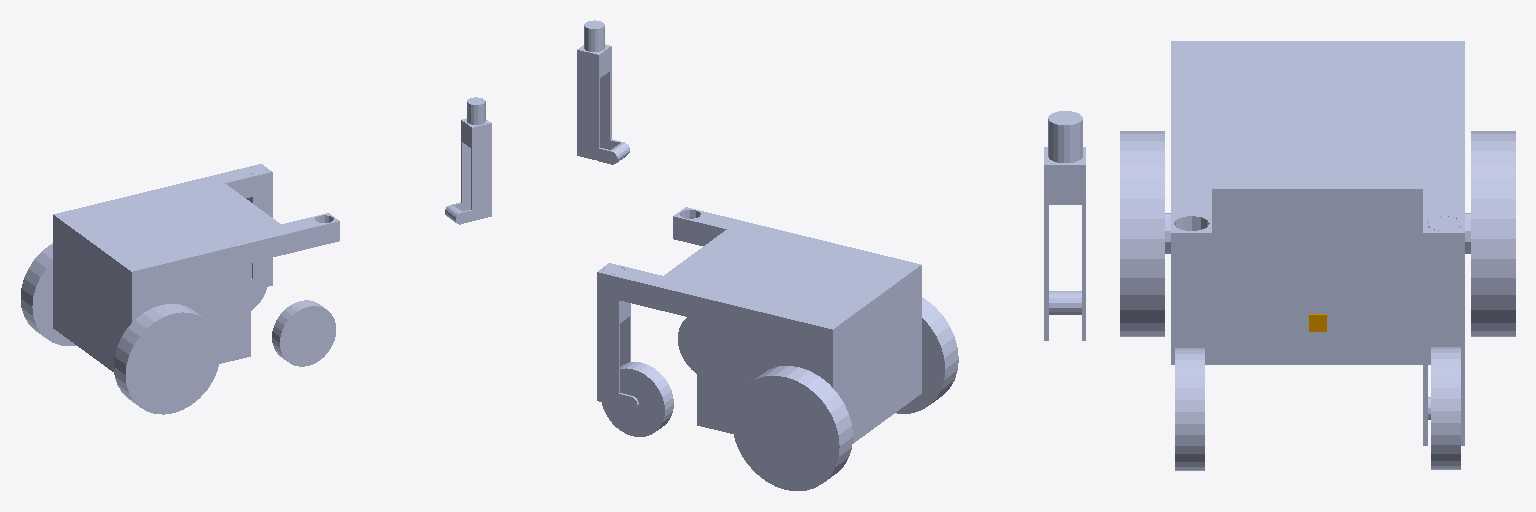
URDF robot description (wheele):
<?xml version="1.0" encoding="utf-8"?>
<!-- This URDF was automatically created by SolidWorks to URDF Exporter! Originally created by [author] ([email redacted]) 
     Commit Version: 1.6.0-4-g7f85cfe  Build Version: 1.6.7995.38578
     For more information, please see http://wiki.ros.org/sw_urdf_exporter -->
<robot
  name="wheele">
  <link
    name="base_link">
    <inertial>
      <origin
        xyz="-0.0527414453514239 -1.08270102171606E-06 0.207668676561577"
        rpy="0 0 0" />
      <mass
        value="91.1648574707324" />
      <inertia
        ixx="3.16732019149984"
        ixy="4.74759163822853E-05"
        ixz="-0.32026788285614"
        iyy="3.23556377175086"
        iyz="1.49370499763038E-05"
        izz="3.88981086562858" />
    </inertial>
    <visual>
      <origin
        xyz="0 0 0"
        rpy="0 0 0" />
      <geometry>
        <mesh
          filename="package://wheele_description/meshes/base_link.STL" />
      </geometry>
      <material
        name="">
        <color
          rgba="0.792156862745098 0.819607843137255 0.933333333333333 1" />
      </material>
    </visual>
    <collision>
      <origin
        xyz="0 0 0"
        rpy="0 0 0" />
      <geometry>
        <mesh
          filename="package://wheele_description/meshes/base_link.STL" />
      </geometry>
    </collision>
  </link>
  <link
    name="wheel_back_left">
    <inertial>
      <origin
        xyz="0.000123919025762947 -0.0375 -0.00194200173946403"
        rpy="1.570796 0 0" />
      <mass
        value="6.60646736275211" />
      <inertia
        ixx="0.0537442322482938"
        ixy="2.16892957827706E-19"
        ixz="-9.1019815591947E-05"
        iyy="0.102710694072585"
        iyz="8.57940734504454E-20"
        izz="0.0551600249768718" />
    </inertial>
    <visual>
      <origin
        xyz="0.000123919025762947 -0.0375 -0.00194200173946403"
        rpy="1.570796 0 0" />
      <geometry>
        <cylinder length="0.075" radius="0.1725" />
      </geometry>
      <material
        name="">
        <color
          rgba="0.792156862745098 0.819607843137255 0.933333333333333 1" />
      </material>
    </visual>
    <collision>
      <origin
        xyz="0.000123919025762947 -0.0375 -0.00194200173946403"
        rpy="1.570796 0 0" />
      <geometry>
        <cylinder length="0.075" radius="0.1725" />
      </geometry>
    </collision>
  </link>
  <joint
    name="joint_wheel_back_left"
    type="continuous">
    <origin
      xyz="-0.189 0.33 0.0885"
      rpy="0 0 0" />
    <parent
      link="base_link" />
    <child
      link="wheel_back_left" />
    <axis
      xyz="0 1 0" />
    <limit
      effort="30"
      velocity="30" />
  </joint>
  <link
    name="wheel_back_right">
    <inertial>
      <origin
        xyz="-8.2629885896357E-06 0.0375 -0.00194593381286387"
        rpy="1.570796 0 0" />
      <mass
        value="6.60646736275211" />
      <inertia
        ixx="0.0537384278699751"
        ixy="-2.83252785110274E-19"
        ixz="5.75494615143155E-06"
        iyy="0.102710694072585"
        iyz="-5.47735900067466E-22"
        izz="0.0551658293551905" />
    </inertial>
    <visual>
      <origin
        xyz="-8.2629885896357E-06 0.0375 -0.00194593381286387"
        rpy="1.570796 0 0" />
      <geometry>
        <cylinder length="0.075" radius="0.1725" />
      </geometry>
      <material
        name="">
        <color
          rgba="0.792156862745098 0.819607843137255 0.933333333333333 1" />
      </material>
    </visual>
    <collision>
      <origin
        xyz="-8.2629885896357E-06 0.0375 -0.00194593381286387"
        rpy="1.570796 0 0" />
      <geometry>
        <cylinder length="0.075" radius="0.1725" />
      </geometry>
    </collision>
  </link>
  <joint
    name="joint_wheel_back_right"
    type="continuous">
    <origin
      xyz="-0.189 -0.33 0.0885"
      rpy="0 0 0" />
    <parent
      link="base_link" />
    <child
      link="wheel_back_right" />
    <axis
      xyz="0 1 0" />
    <limit
      effort="30"
      velocity="30" />
  </joint>
  <link
    name="front_right">
    <inertial>
      <origin
        xyz="-0.00796967411895133 1.34484746663888E-05 -0.169078862100503"
        rpy="0 0 0" />
      <mass
        value="0.912192812599195" />
      <inertia
        ixx="0.0138058169636317"
        ixy="5.46192947538833E-07"
        ixz="-0.00150025951095099"
        iyy="0.0140839705934447"
        iyz="2.76870935230375E-06"
        izz="0.00126687371083358" />
    </inertial>
    <visual>
      <origin
        xyz="0 0 0"
        rpy="0 0 0" />
      <geometry>
        <mesh
          filename="package://wheele_description/meshes/front_right.STL" />
      </geometry>
      <material
        name="">
        <color
          rgba="0.792156862745098 0.819607843137255 0.933333333333333 1" />
      </material>
    </visual>
    <collision>
      <origin
        xyz="0 0 0"
        rpy="0 0 0" />
      <geometry>
        <mesh
          filename="package://wheele_description/meshes/front_right.STL" />
      </geometry>
    </collision>
  </link>
  <joint
    name="jont_front_right"
    type="continuous">
    <origin
      xyz="0.42825 -0.21075 0.394"
      rpy="0 0 0" />
    <parent
      link="base_link" />
    <child
      link="front_right" />
    <axis
      xyz="0 0 -1" />
  </joint>
  <link
    name="wheel_front_right">
    <inertial>
      <origin
        xyz="-0.000134044498266039 0.0325 -0.00152009362232607"
        rpy="1.570796 0 0" />
      <mass
        value="1.54915886155044" />
      <inertia
        ixx="0.00448990415075851"
        ixy="-2.74052534042467E-18"
        ixz="1.41226640854449E-05"
        iyy="0.00849384204724026"
        iyz="2.18087529975426E-19"
        izz="0.00464942075546111" />
    </inertial>
    <visual>
      <origin
        xyz="-0.000134044498266039 0.0325 -0.00152009362232607"
        rpy="1.570796 0 0" />
      <geometry>
        <cylinder length="0.05" radius="0.1025" />
      </geometry>
      <material
        name="">
        <color
          rgba="0.792156862745098 0.819607843137255 0.933333333333333 1" />
      </material>
    </visual>
    <collision>
      <origin
        xyz="-0.000134044498266039 0.0325 -0.00152009362232607"
        rpy="1.570796 0 0" />
      <geometry>
        <cylinder length="0.05" radius="0.1025" />
      </geometry>
    </collision>
  </link>
  <joint
    name="joint_wheel_front_right"
    type="continuous">
    <origin
      xyz="-0.075 -0.035 -0.3755"
      rpy="0 0 0" />
    <parent
      link="front_right" />
    <child
      link="wheel_front_right" />
    <axis
      xyz="0 -1 0" />
  </joint>
  <link
    name="front_left">
    <inertial>
      <origin
        xyz="-0.00796967411880023 1.34484745151486E-05 -0.169078862100503"
        rpy="0 0 0" />
      <mass
        value="0.912192812599195" />
      <inertia
        ixx="0.0138058169636317"
        ixy="5.46192947538824E-07"
        ixz="-0.00150025951095099"
        iyy="0.0140839705934447"
        iyz="2.76870935230368E-06"
        izz="0.00126687371083358" />
    </inertial>
    <visual>
      <origin
        xyz="0 0 0"
        rpy="0 0 0" />
      <geometry>
        <mesh
          filename="package://wheele_description/meshes/front_left.STL" />
      </geometry>
      <material
        name="">
        <color
          rgba="0.792156862745098 0.819607843137255 0.933333333333333 1" />
      </material>
    </visual>
    <collision>
      <origin
        xyz="0 0 0"
        rpy="0 0 0" />
      <geometry>
        <mesh
          filename="package://wheele_description/meshes/front_left.STL" />
      </geometry>
    </collision>
  </link>
  <joint
    name="joint_front_left"
    type="continuous">
    <origin
      xyz="0.42825 0.21125 0.394"
      rpy="0 0 0" />
    <parent
      link="base_link" />
    <child
      link="front_left" />
    <axis
      xyz="0 0 -1" />
  </joint>
  <link
    name="wheel_front_left">
    <inertial>
      <origin
        xyz="-0.00106531226090795 -0.0325 -0.00109259431396592"
        rpy="1.570796 0 0" />
      <mass
        value="1.54915886155044" />
      <inertia
        ixx="0.00456756149249647"
        ixy="-1.69951829350563E-18"
        ixz="8.09717382753578E-05"
        iyy="0.00849384204724026"
        iyz="-5.55422993037582E-19"
        izz="0.00457176341372314" />
    </inertial>
    <visual>
      <origin
        xyz="-0.00106531226090795 -0.0325 -0.00109259431396592"
        rpy="1.570796 0 0" />
      <geometry>
        <cylinder length="0.05" radius="0.1025" />
      </geometry>
      <material
        name="">
        <color
          rgba="0.792156862745098 0.819607843137255 0.933333333333333 1" />
      </material>
    </visual>
    <collision>
      <origin
        xyz="-0.00106531226090795 -0.0325 -0.00109259431396592"
        rpy="1.570796 0 0" />
      <geometry>
        <cylinder length="0.05" radius="0.1025" />
      </geometry>
    </collision>
  </link>
  <joint
    name="joint_wheel_front_left"
    type="continuous">
    <origin
      xyz="-0.075 0.035 -0.3755"
      rpy="0 0 0" />
    <parent
      link="front_left" />
    <child
      link="wheel_front_left" />
    <axis
      xyz="0 -1 0" />
  </joint>

  <link name="dummy">
  </link>
  <joint name="dummy_joint" type="fixed">
     <parent link="dummy"/>
     <child link="base_link"/>
  </joint>

  <joint name="camera_joint" type="fixed">
    <parent link="base_link"/>
    <child link="camera_link"/>
    <origin xyz="0.145 0 0.08" rpy="0 0 0"/>
  </joint>

  <link name="camera_link">
    <visual>
      <geometry>
        <box size="0.010 0.03 0.03"/>
      </geometry>
    </visual>
  </link>

  <gazebo reference="camera_link">
    <sensor name="camera" type="depth">
      <update_rate>20</update_rate>
      <pose> 0 0 0 0 0 0 </pose>
      <visualize>true</visualize>
      <camera>
        <horizontal_fov>1.047198</horizontal_fov>
        <image>
          <width>640</width>
          <height>480</height>
          <format>R8G8B8</format>
        </image>
        <clip>
          <near>0.05</near>
          <far>3</far>
        </clip>
      </camera>

      <plugin name="camera_plugin" filename="libgazebo_ros_openni_kinect.so">
        <baseline>0.2</baseline>
        <alwaysOn>true</alwaysOn>
        <!-- Keep this zero, update_rate in the parent <sensor> tag
          will control the frame rate. -->
        <updateRate>0.0</updateRate>
        <cameraName>camera_ir</cameraName>
        <imageTopicName>/camera/color/image_raw</imageTopicName>
        <cameraInfoTopicName>/camera/color/camera_info</cameraInfoTopicName>
        <depthImageTopicName>/camera/depth/image_raw</depthImageTopicName>
        <depthImageCameraInfoTopicName>/camera/depth/camera_info</depthImageCameraInfoTopicName>
        <pointCloudTopicName>/camera/depth/points</pointCloudTopicName>
        <frameName>camera_link</frameName>
        <pointCloudCutoff>0.5</pointCloudCutoff>
        <pointCloudCutoffMax>3.0</pointCloudCutoffMax>
        <distortionK1>0</distortionK1>
        <distortionK2>0</distortionK2>
        <distortionK3>0</distortionK3>
        <distortionT1>0</distortionT1>
        <distortionT2>0</distortionT2>
        <CxPrime>0</CxPrime>
        <Cx>0</Cx>
        <Cy>0</Cy>
        <focalLength>0</focalLength>
        <hackBaseline>0</hackBaseline>
      </plugin>
    </sensor>
  </gazebo> 

  <gazebo> 
    <plugin name="odom_plugin" filename="libgazebo_ros_p3d.so">
      <alwaysOn>true</alwaysOn>
      <updateRate>50.0</updateRate>
      <bodyName>base_link</bodyName>
      <topicName>/odom</topicName>
      <gaussianNoise>0.0</gaussianNoise>
      <frameName>map</frameName>
    </plugin>
  </gazebo> 

  <transmission name="tran_wheel_back_right">
    <type>transmission_interface/SimpleTransmission</type>
    <joint name="joint_wheel_back_right">
      <hardwareInterface>hardware_interface/VelocityJointInterface</hardwareInterface>
    </joint>
    <actuator name="motor_wheel_back_right">
      <hardwareInterface>hardware_interface/VelocityJointInterface</hardwareInterface>
      <mechanicalReduction>1</mechanicalReduction>
    </actuator>
  </transmission>

  <transmission name="tran_wheel_back_left">
    <type>transmission_interface/SimpleTransmission</type>
    <joint name="joint_wheel_back_left">
      <hardwareInterface>hardware_interface/VelocityJointInterface</hardwareInterface>
    </joint>
    <actuator name="motor_wheel_back_left">
      <hardwareInterface>hardware_interface/VelocityJointInterface</hardwareInterface>
      <mechanicalReduction>1</mechanicalReduction>
    </actuator>
  </transmission>

  <gazebo>
    <plugin name="gazebo_ros_control" filename="libgazebo_ros_control.so">
      <robotNamespace>/wheele</robotNamespace>
    </plugin>
  </gazebo>


</robot>

--- What the picture shows (computed from the rendered views, not written in the file) ---
The picture shows the robot from 3 angles, left to right: view 1: azimuth 30°, elevation 25°; view 2: azimuth 150°, elevation 25°; view 3: azimuth 270°, elevation 25°; orthographic projection.
Model wheele with 9 links and 8 joints (6 continuous, 2 fixed), rooted at dummy, posed all joints at 0.
Visible links, largest first — view 1: base_link, wheel_back_right, front_right, wheel_front_right, wheel_back_left, front_left; view 2: base_link, wheel_back_left, front_right, front_left, wheel_front_left, wheel_back_right, wheel_front_right; view 3: base_link, wheel_back_left, wheel_back_right, front_right, wheel_front_right, wheel_front_left, front_left.
Boxes of the visible links, bbox=[...] form: base_link: bbox=[53, 164, 339, 372]; wheel_back_right: bbox=[114, 304, 220, 414]; front_right: bbox=[445, 97, 491, 224]; wheel_front_right: bbox=[272, 300, 335, 366]; wheel_back_left: bbox=[21, 243, 76, 345]; front_left: bbox=[246, 166, 272, 290]; base_link: bbox=[597, 207, 921, 443]; wheel_back_left: bbox=[732, 366, 852, 490]; front_right: bbox=[577, 20, 629, 164]; front_left: bbox=[597, 266, 638, 409]; wheel_front_left: bbox=[602, 362, 673, 436]; wheel_back_right: bbox=[896, 298, 958, 413]; wheel_front_right: bbox=[678, 317, 696, 373]; base_link: bbox=[1165, 41, 1470, 364]; wheel_back_left: bbox=[1471, 131, 1515, 336]; wheel_back_right: bbox=[1120, 131, 1164, 336]; front_right: bbox=[1044, 111, 1085, 340]; wheel_front_right: bbox=[1175, 348, 1204, 470]; wheel_front_left: bbox=[1431, 347, 1460, 469]; front_left: bbox=[1423, 216, 1464, 445].
Size in the robot's own frame: 1.25 by 0.7865 by 0.8739 metres.
3 mesh visuals loaded from 3 distinct referenced files (3 binary STL).
